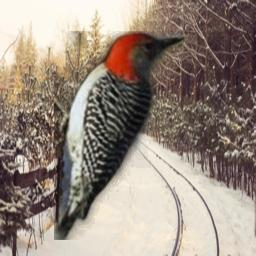Woodpecker: (54, 31, 184, 240)
